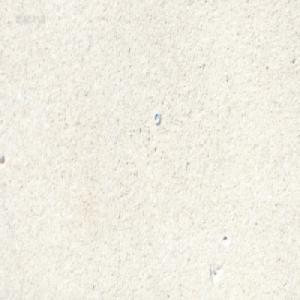Washer: (153, 110, 160, 124)
